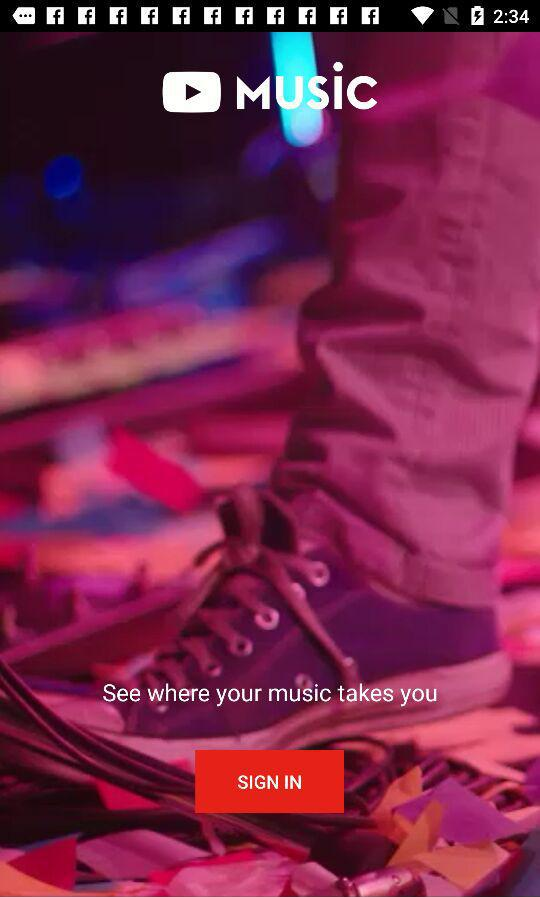BackgroundImage: (1, 33, 540, 897)
Image: (162, 62, 379, 114)
Text: (103, 682, 438, 708)
TextButton: (195, 750, 345, 814)
UpperTaskBar: (1, 1, 540, 33)
